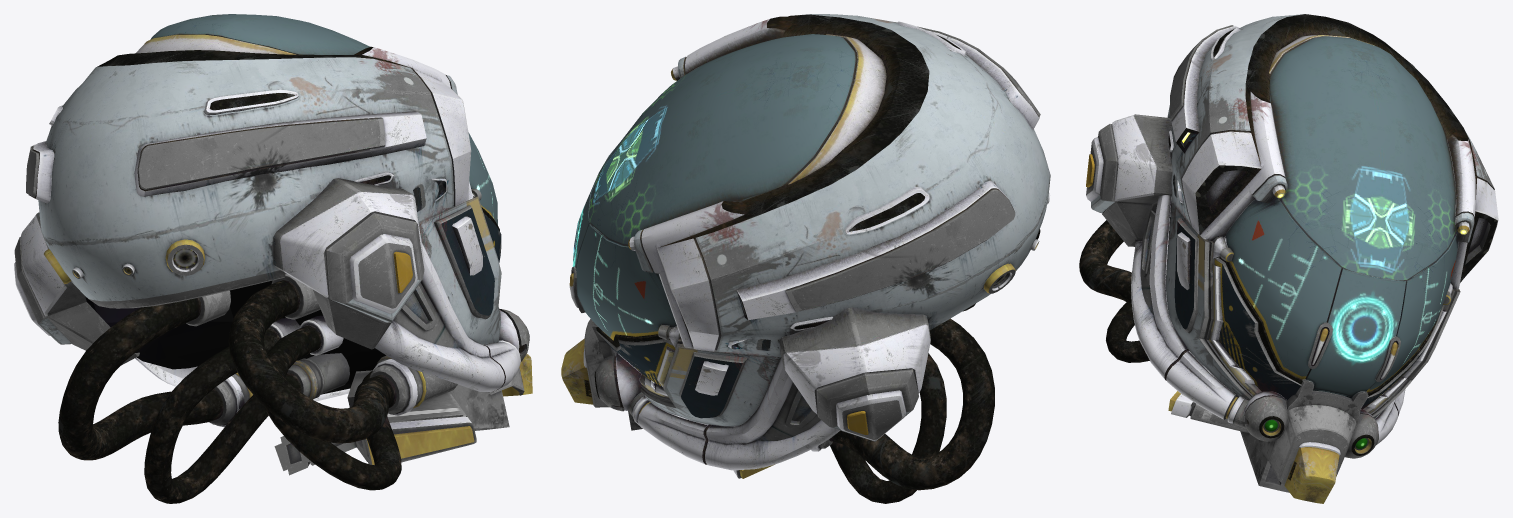
The model's file is DamagedHelmet.gltf.
The picture shows the model from 3 angles, left to right: view 1: azimuth 30°, elevation 25°; view 2: azimuth 150°, elevation 25°; view 3: azimuth 270°, elevation 25°; orthographic projection. The views are drawn at different scales.
Parts seen in each view (by area): view 1: node_damagedHelmet_-6514_0; view 2: node_damagedHelmet_-6514_0; view 3: node_damagedHelmet_-6514_0.
Boxes of the visible parts, x1,y1,x2,y2 form: node_damagedHelmet_-6514_0: [14, 14, 532, 503]; node_damagedHelmet_-6514_0: [561, 14, 1050, 503]; node_damagedHelmet_-6514_0: [1079, 14, 1498, 503].
Bounding box in the file's own units: 2.02 × 1.85 × 1.87.
1 material, 1 textured.
